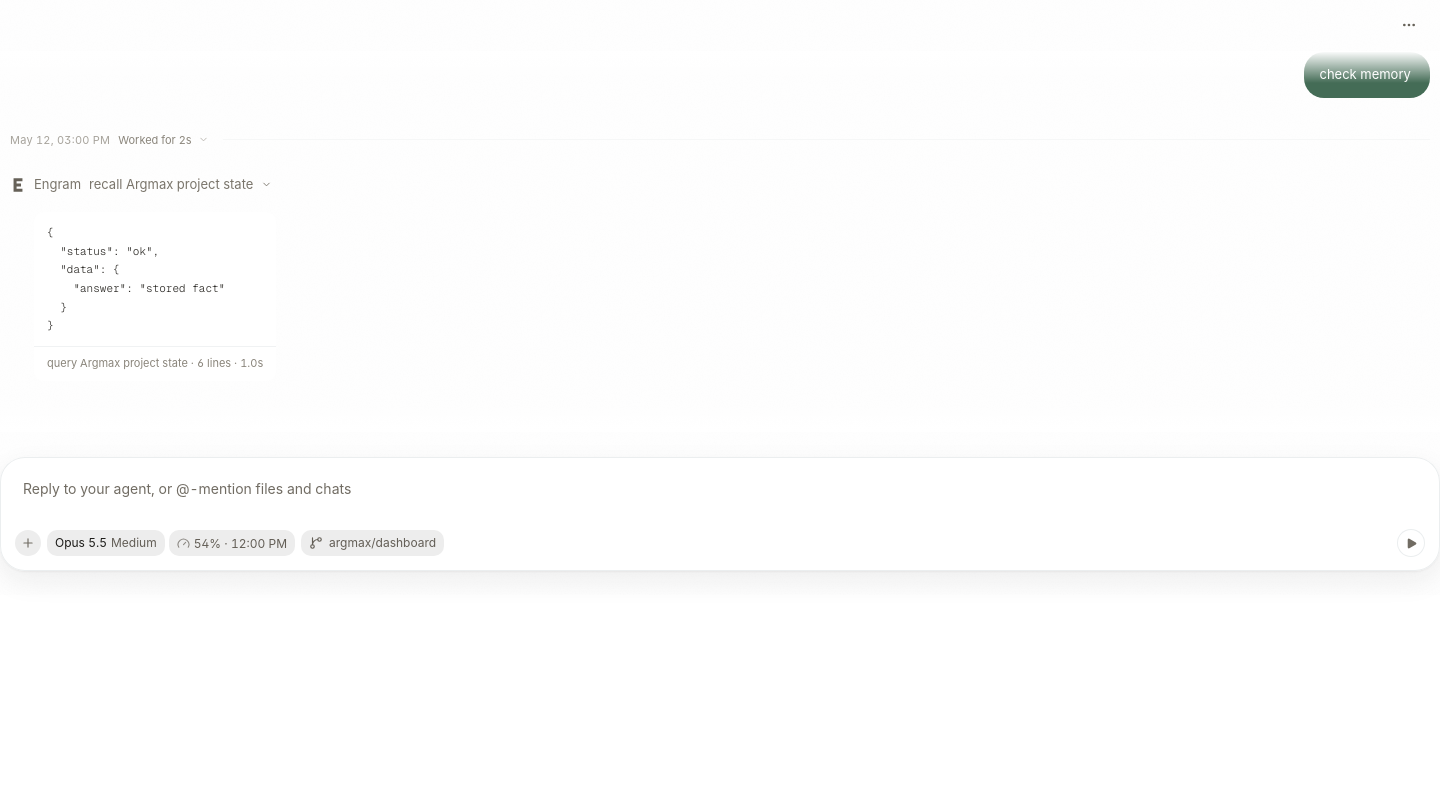
Scenario: SessionConversation — tools & chrome › collapses a single MCP tool row when the turn chip is toggled
This screenshot has width=1440, height=810.
Expected: the text "query Argmax project state · 6 lines · 1.0s" is shown, [47,356,263,370]
Expected: the text "{ \"status\": \"ok\", \"data\": { \"answer\": \"stored fact\" } }" is shown, [47,225,225,332]
Click the button "Worked for 2s". click: (166, 140)
box: [118,132,215,148]
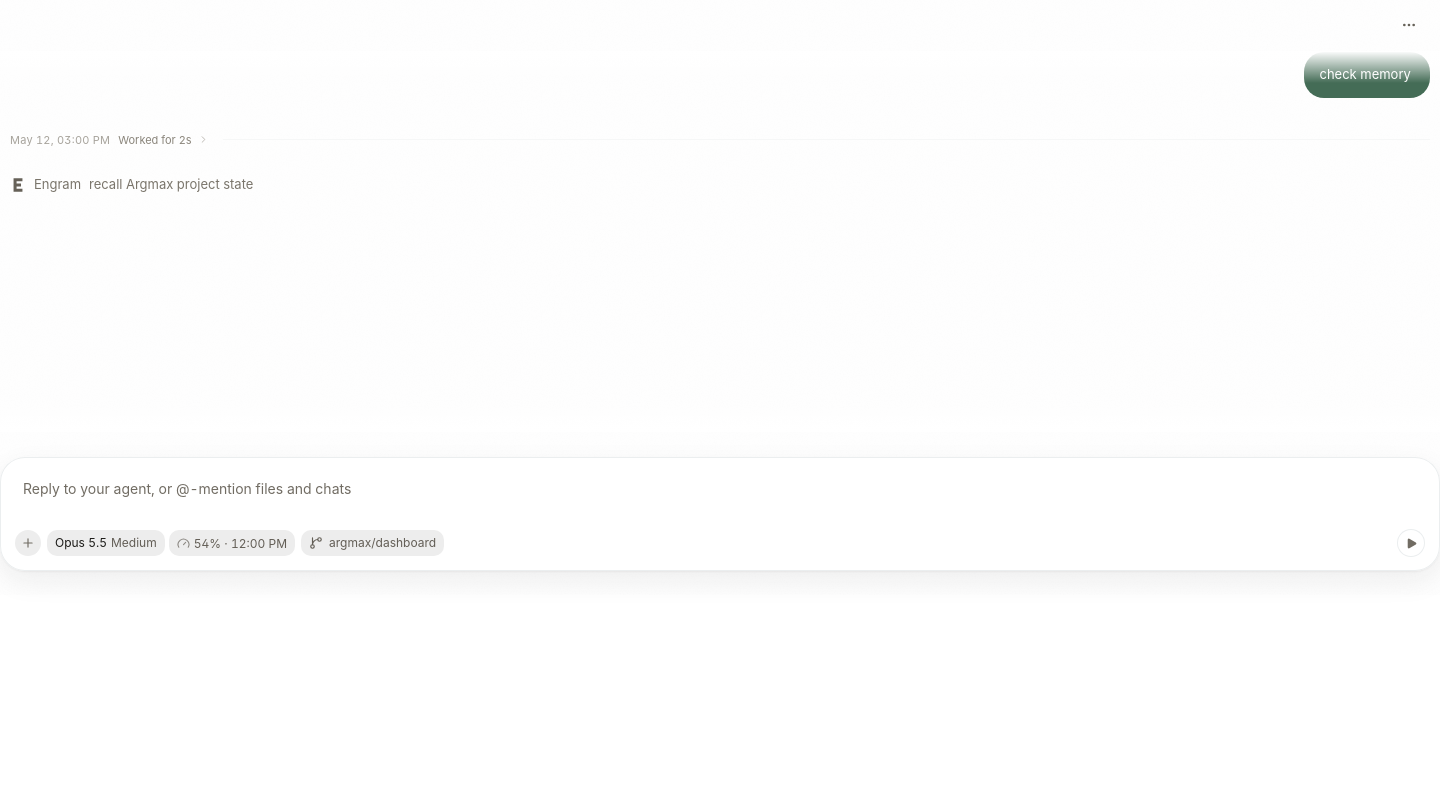
Expected: the text "query Argmax project state" is gone
Expected: the text "stored fact" is gone
